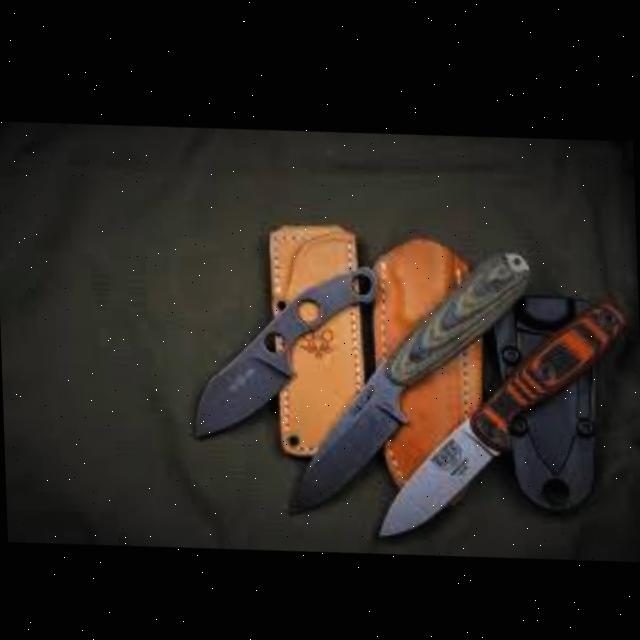Knife: (276, 228, 536, 523), (368, 274, 635, 546), (185, 250, 380, 446)
